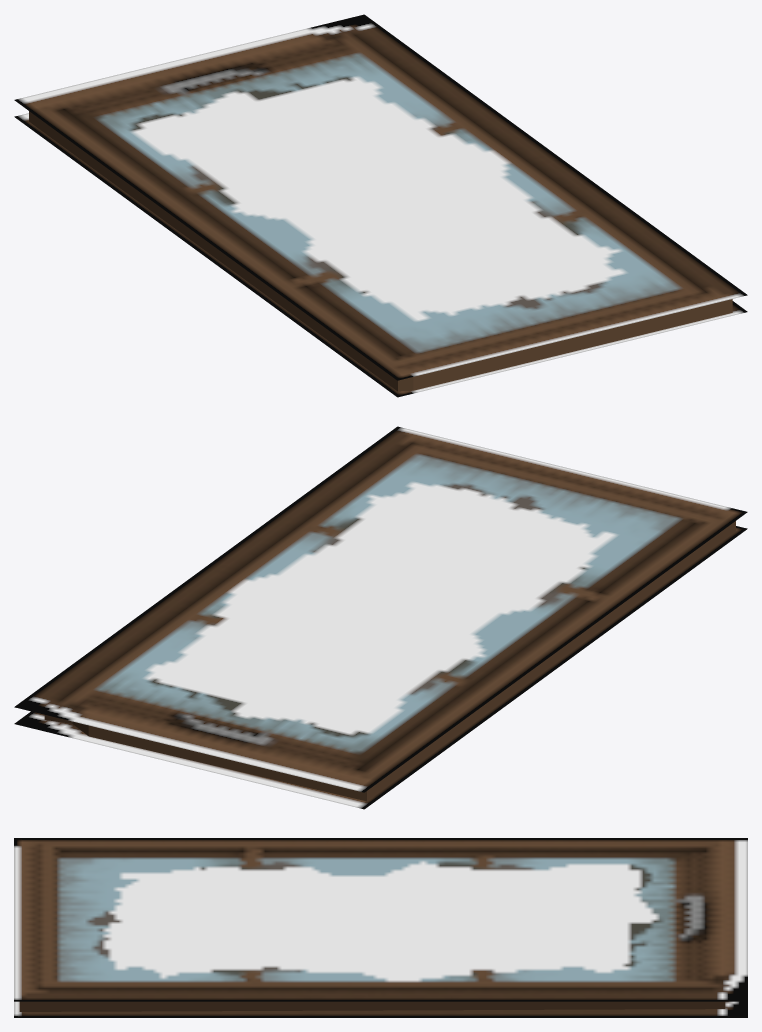
Rendered from pz_native_fixtures_windows_wood_73_frame.obj.
3 renders of one model, top to bottom at view 1: azimuth 30°, elevation 25°; view 2: azimuth 150°, elevation 25°; view 3: azimuth 270°, elevation 25°, orthographic. The views are drawn at different scales.
Visible parts, largest first — view 1: pz_native_fixtures_windows_wood_73_frame; view 2: pz_native_fixtures_windows_wood_73_frame; view 3: pz_native_fixtures_windows_wood_73_frame.
Boxes of the visible parts, box(x1,y1,x2,y2) form: pz_native_fixtures_windows_wood_73_frame: box(14, 14, 747, 397); pz_native_fixtures_windows_wood_73_frame: box(14, 426, 747, 809); pz_native_fixtures_windows_wood_73_frame: box(14, 838, 747, 1017).
Size of the model in its own units: 0.875 by 0.04 by 1.66.
1 material, 1 textured.
